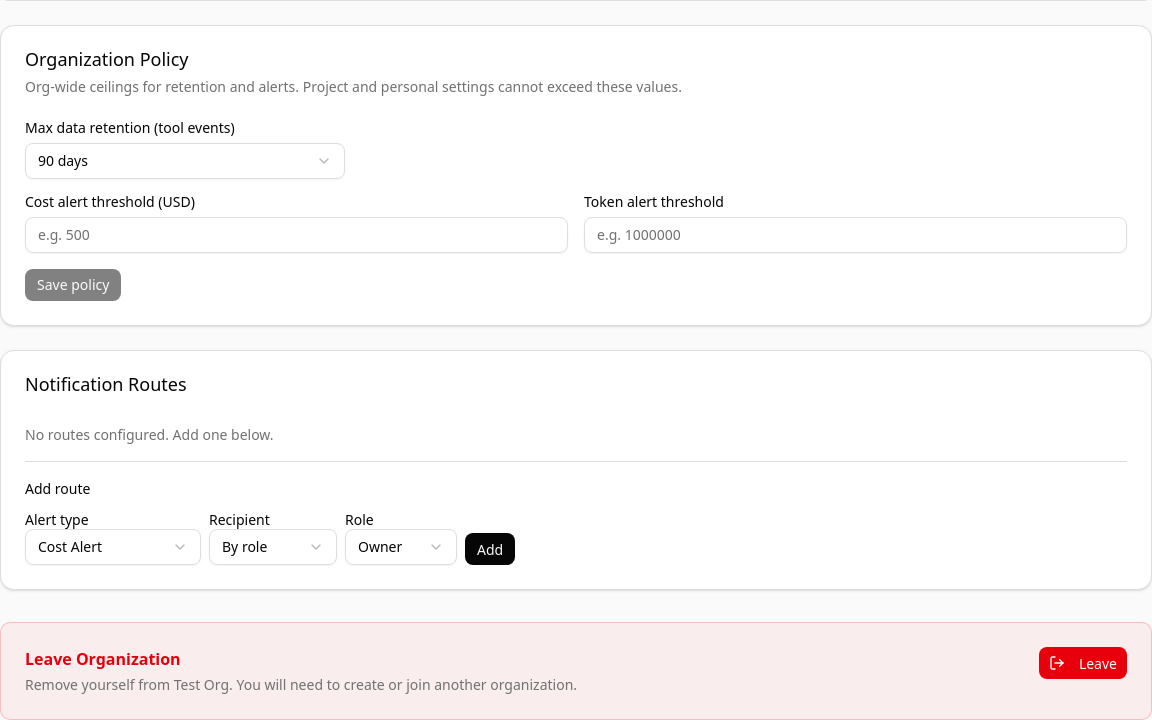
Test: Members › owner access › shows leave confirmation with project transfer details when another owner exists
This screenshot has width=1152, height=720.
(page scrolled)
Click the button "Leave" at (1083, 663), box [1039,647,1127,679]
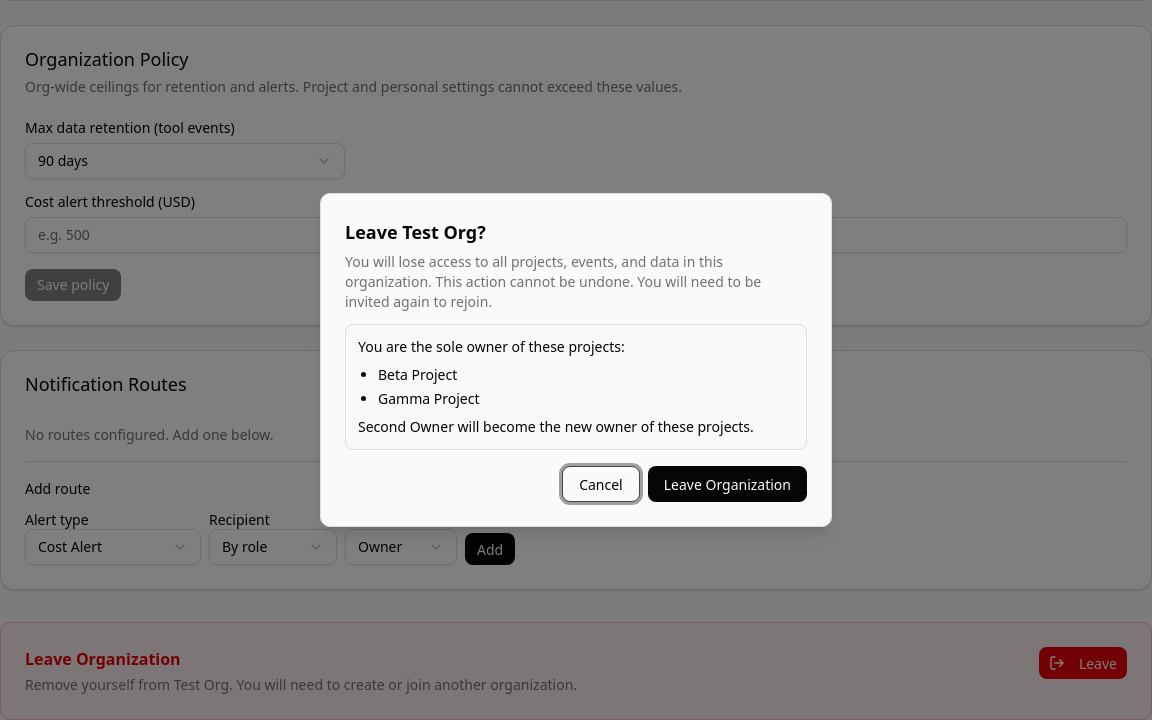
Expected: the dialog shows "you are the sole owner of these projects", [358,337,625,356]
Expected: the dialog shows "Beta Project", [378,365,457,384]
Expected: the dialog shows "Gamma Project", [378,389,480,408]
